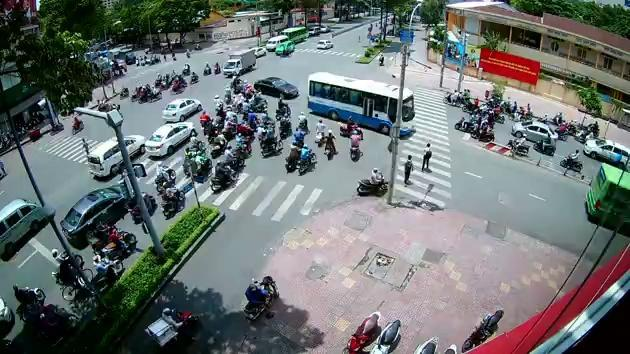xe buyt: (304, 71, 414, 138)
xe dap: (59, 262, 92, 301)
xe hoi: (58, 183, 129, 244), (85, 134, 146, 177), (145, 121, 195, 156), (582, 139, 629, 165), (510, 119, 557, 144), (252, 76, 297, 99), (162, 98, 200, 121)
xe may: (209, 160, 238, 192), (355, 166, 386, 195), (295, 142, 316, 176), (558, 147, 581, 171), (322, 128, 338, 161), (223, 145, 243, 169), (348, 129, 362, 162), (507, 132, 528, 152), (314, 119, 326, 144), (296, 110, 308, 130)
xe tai: (221, 49, 254, 75)
xe van: (0, 197, 52, 257)
